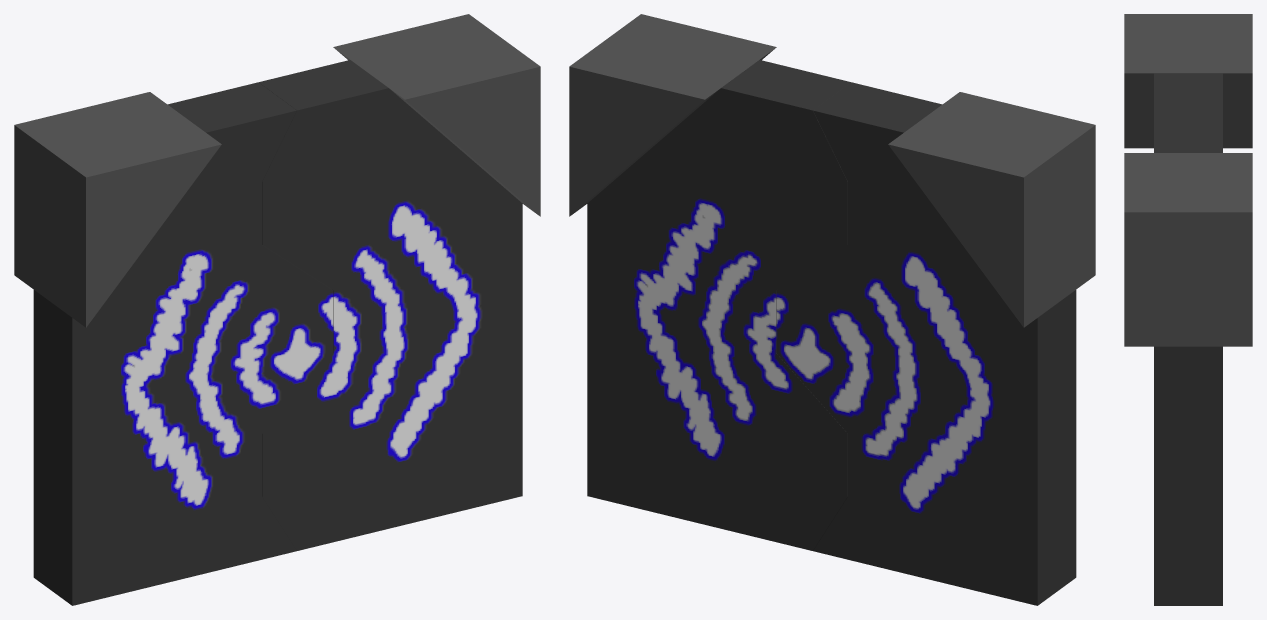
Rendered from Door 1.fbx.
The picture shows the model from 3 angles, left to right: view 1: azimuth 30°, elevation 25°; view 2: azimuth 150°, elevation 25°; view 3: azimuth 270°, elevation 25°; orthographic projection. The views are drawn at different scales.
Parts seen in each view (by area): view 1: polySurface7, polySurface6, pCube3; view 2: polySurface7, polySurface6, pCube3; view 3: pCube3, polySurface7, polySurface6.
Part boxes in pixels (<box>): polySurface7: <box>259,60,522,550</box>; polySurface6: <box>33,82,333,605</box>; pCube3: <box>14,14,540,327</box>; polySurface7: <box>587,60,850,550</box>; polySurface6: <box>776,82,1076,605</box>; pCube3: <box>569,14,1095,327</box>; pCube3: <box>1124,14,1252,346</box>; polySurface7: <box>1154,114,1222,605</box>; polySurface6: <box>1154,73,1222,113</box>.
Size of the model in its own units: 1.55 by 1.44 by 0.4247.
Materials: 2 (2 with a texture image).
